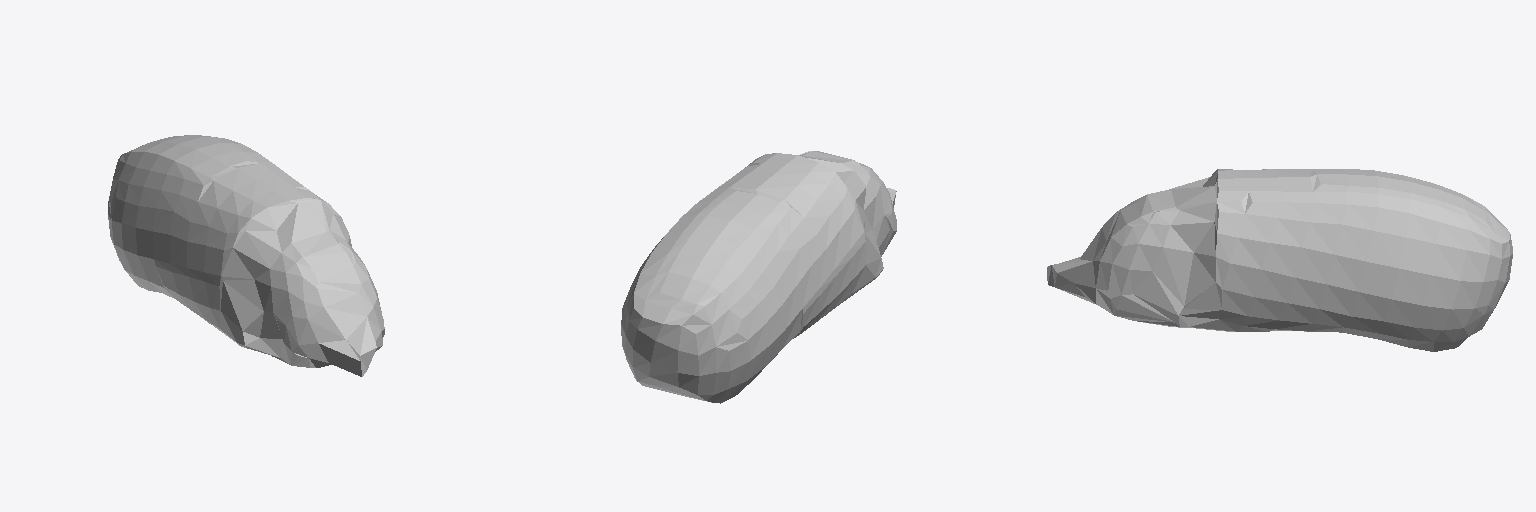
The model's file is sim_ecub_l_hand_middle_2.obj.
The picture shows the model from 3 angles: view 1: azimuth 30°, elevation 25°; view 2: azimuth 150°, elevation 25°; view 3: azimuth 270°, elevation 25°; orthographic projection.
Bounding box in the file's own units: 17.33 × 18.83 × 51.13.